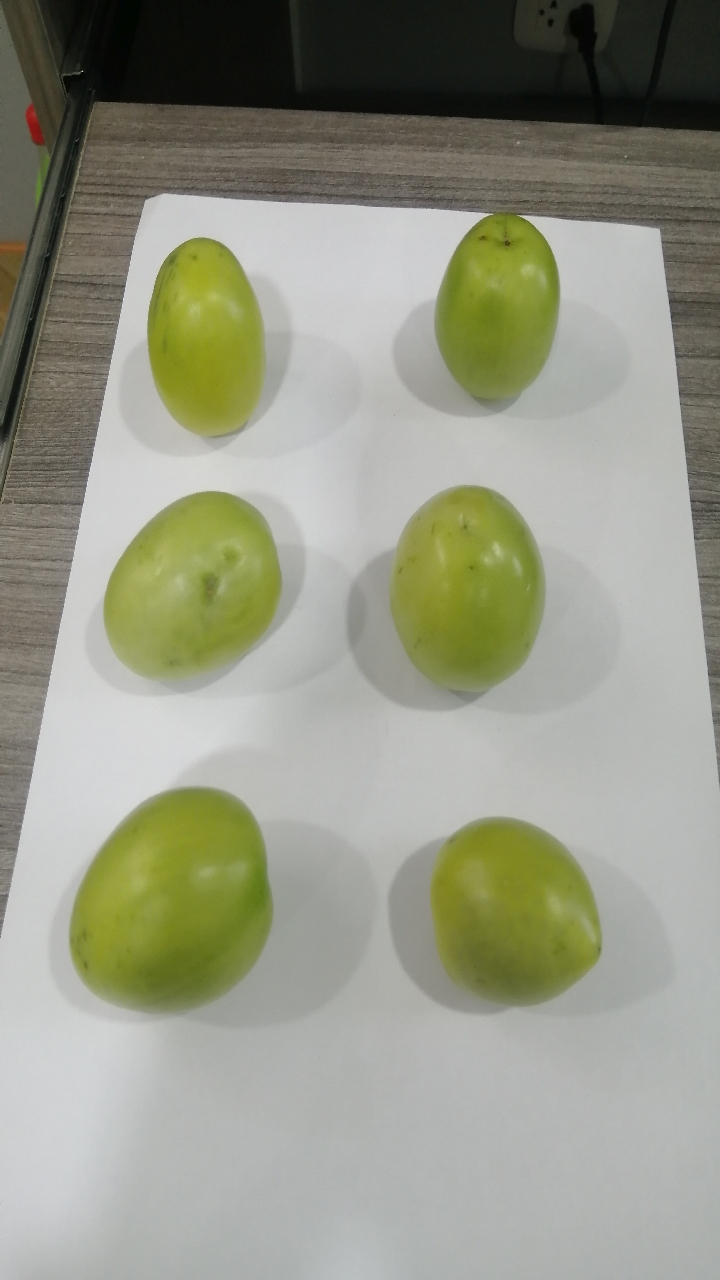tomateVerde: (32, 762, 298, 1040), (401, 788, 637, 1042), (106, 200, 329, 455), (71, 471, 311, 703), (378, 459, 564, 711), (421, 195, 595, 426)
